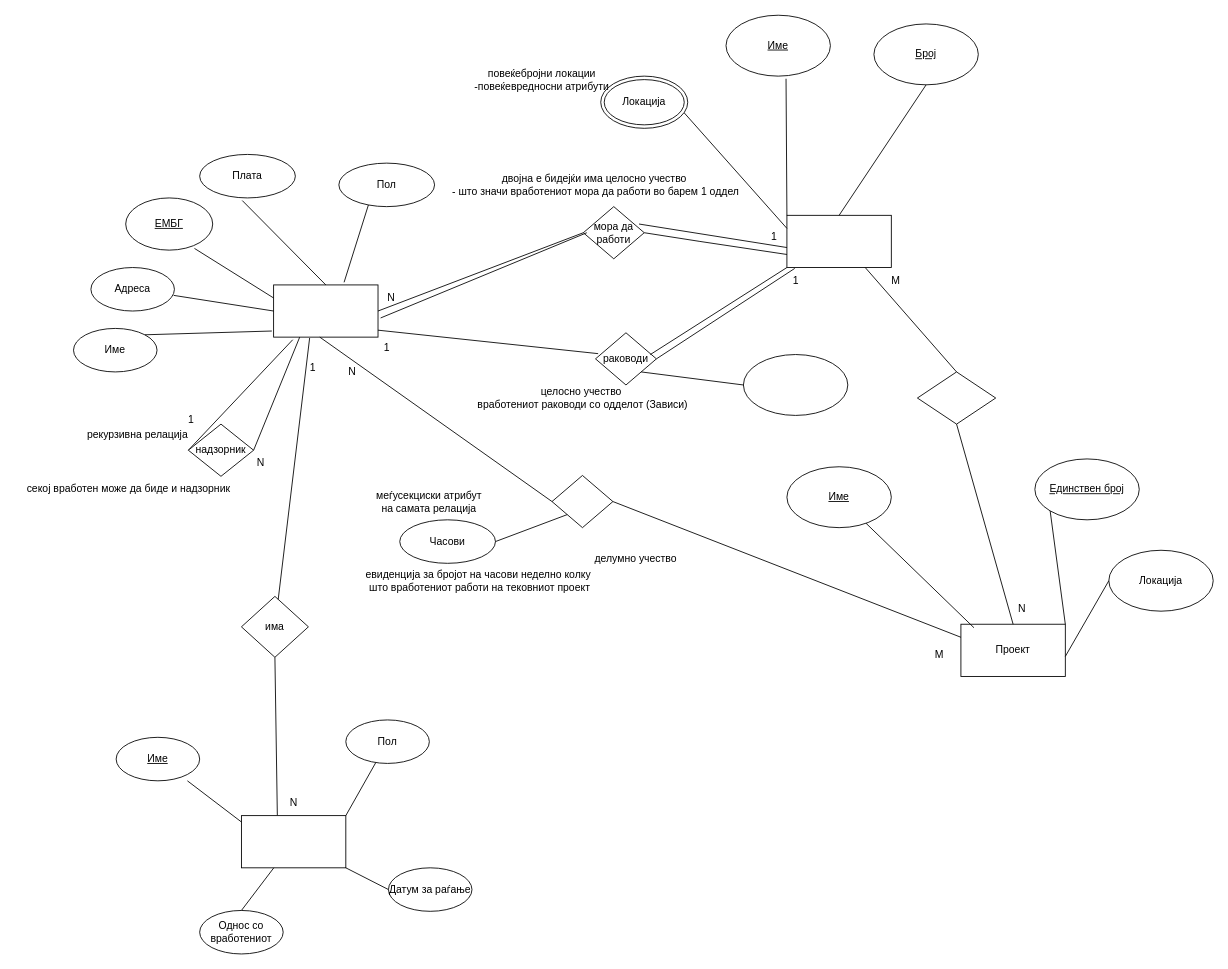
Image size: 1228x969. Some labels were removed from this diagram. The centre of each missing label's shape, as x and y in pixels:
"Вработен" goes at point (325, 310).
"Издржувано лице" goes at point (293, 841).
"контролира" goes at point (956, 397).
"може да работи" goes at point (582, 501).
"Оддел" goes at point (838, 241).
"Почетен датум кога станал раководител" goes at point (795, 384).
